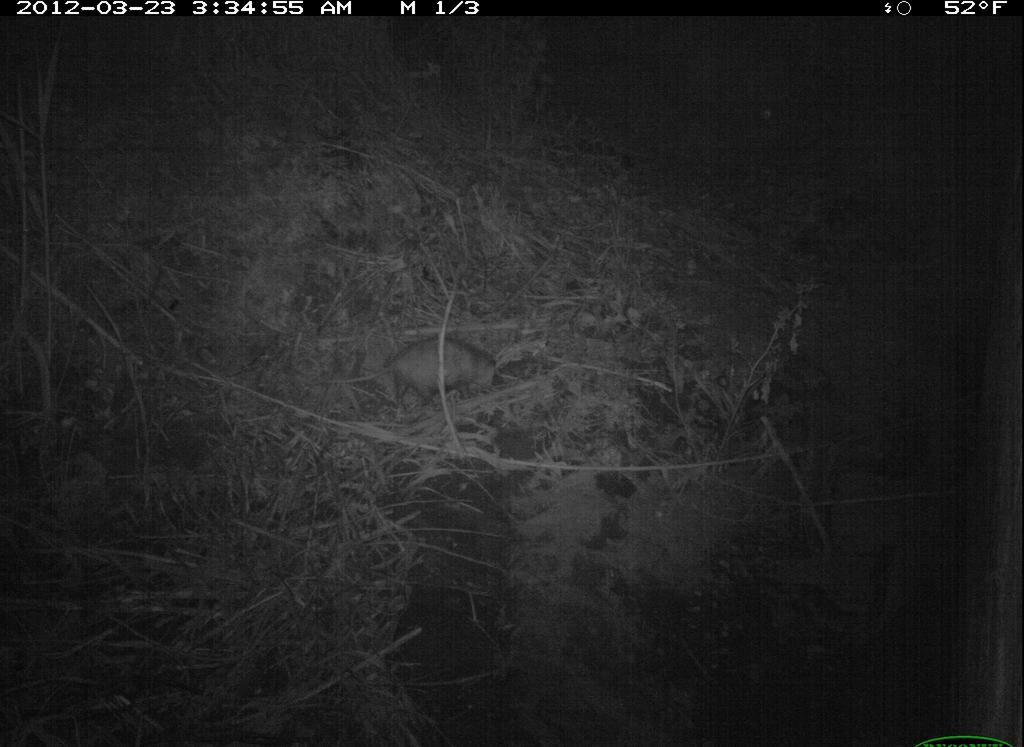opossum: (369, 321, 527, 417)
